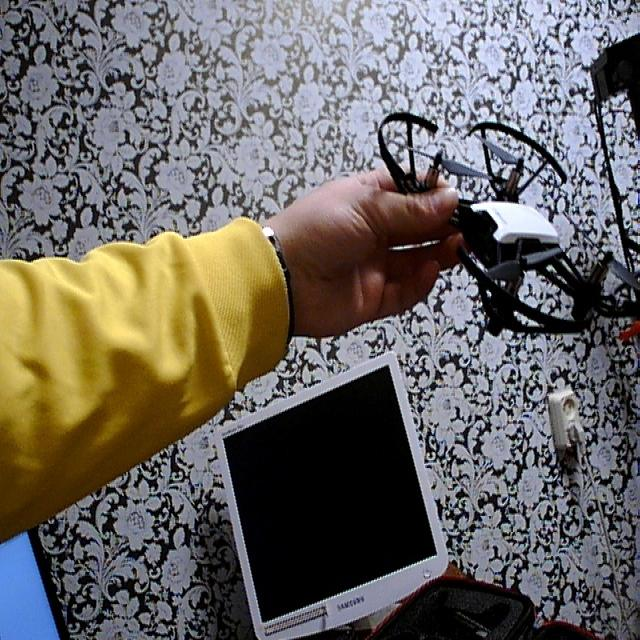drone: (368, 82, 640, 353)
